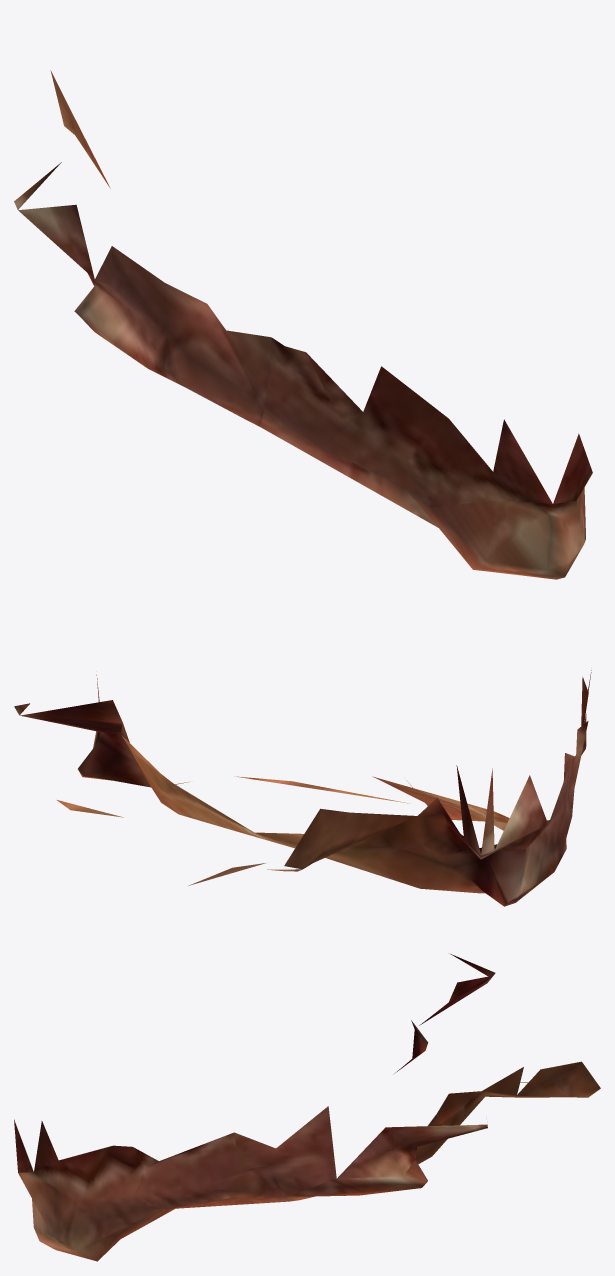
File: dragon_jaw.glb
3 views of the same model, one above another, from view 1: azimuth 30°, elevation 25°; view 2: azimuth 150°, elevation 25°; view 3: azimuth 270°, elevation 25° (orthographic). The views are drawn at different scales.
Parts seen in each view (by area): view 1: dragon_jaw; view 2: dragon_jaw; view 3: dragon_jaw.
Boxes of the visible parts, x1=… form: dragon_jaw: x1=14, y1=70, x2=592, y2=579; dragon_jaw: x1=14, y1=670, x2=591, y2=906; dragon_jaw: x1=14, y1=954, x2=600, y2=1261.
Bounding box in the file's own units: 2.92 × 1.79 × 4.14.
Materials: 1 (1 with a texture image).
